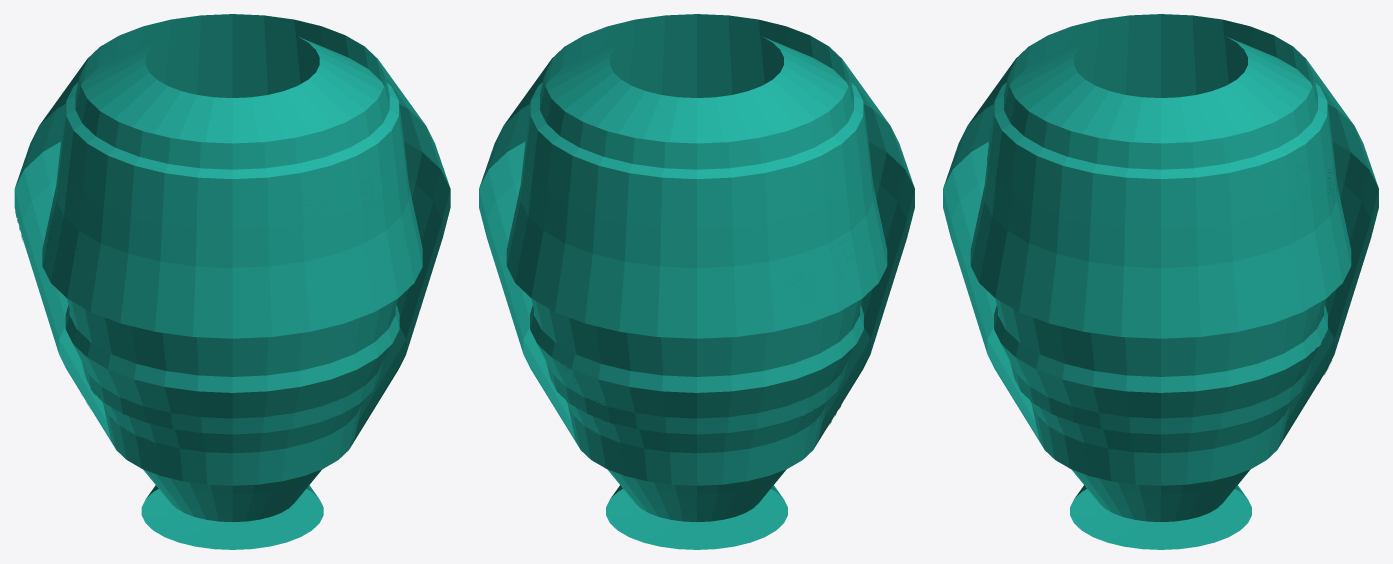
3 renders of one model, left to right at view 1: azimuth 30°, elevation 25°; view 2: azimuth 150°, elevation 25°; view 3: azimuth 270°, elevation 25°, orthographic.
Visible parts, largest first — view 1: algeomath (2), 스티커 (×2); view 2: algeomath (2), 스티커 (×3); view 3: algeomath (2), 스티커.
Boxes of the visible parts, x1,y1,x2,y2 form: algeomath (2): [14, 14, 450, 549]; 스티커 (×2): [15, 176, 373, 263]; algeomath (2): [479, 14, 914, 549]; 스티커 (×3): [537, 151, 860, 425]; algeomath (2): [943, 14, 1378, 549]; 스티커: [1295, 161, 1334, 201].
Size of the model in its own units: 0.2638 by 0.3 by 0.2619.
7 materials, 7 textured.
